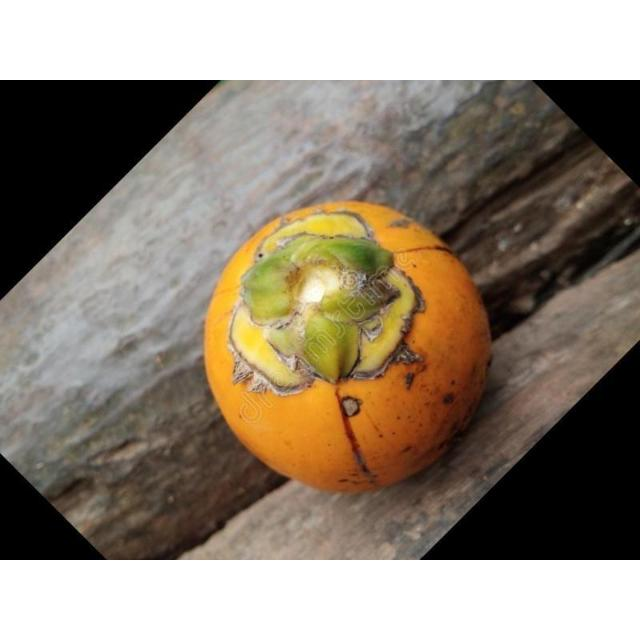good: (204, 202, 490, 494)
